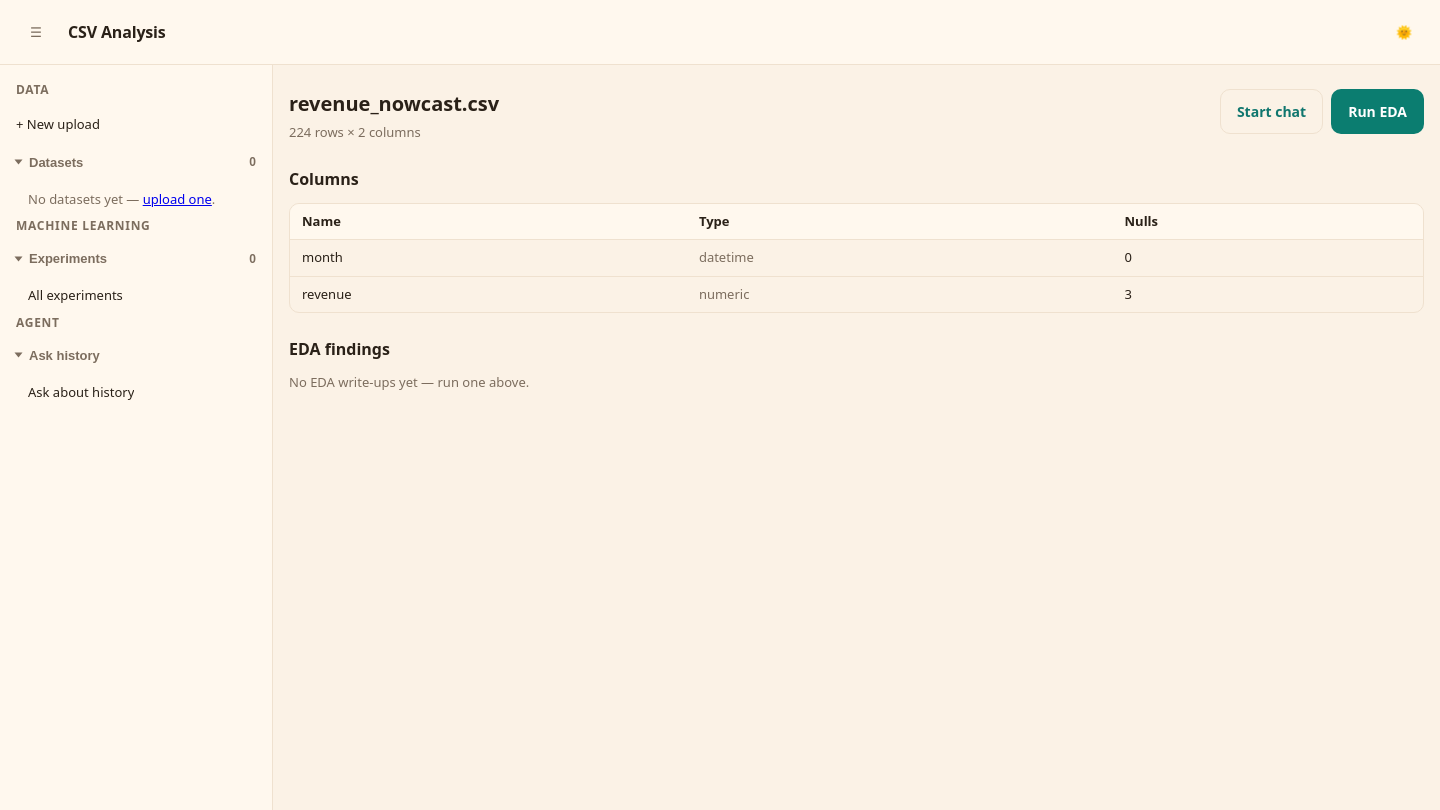
Test: a completed EDA pass refetches, so the new draft appears without a reload
Expected: the text "No EDA write-ups yet — run one above." is shown, left=289, top=373, right=529, bottom=391
What coordinates should you click on to do the following:
click the button "Run EDA"
I would click on:
 (1378, 112)
Its box is left=1331, top=89, right=1424, bottom=134.
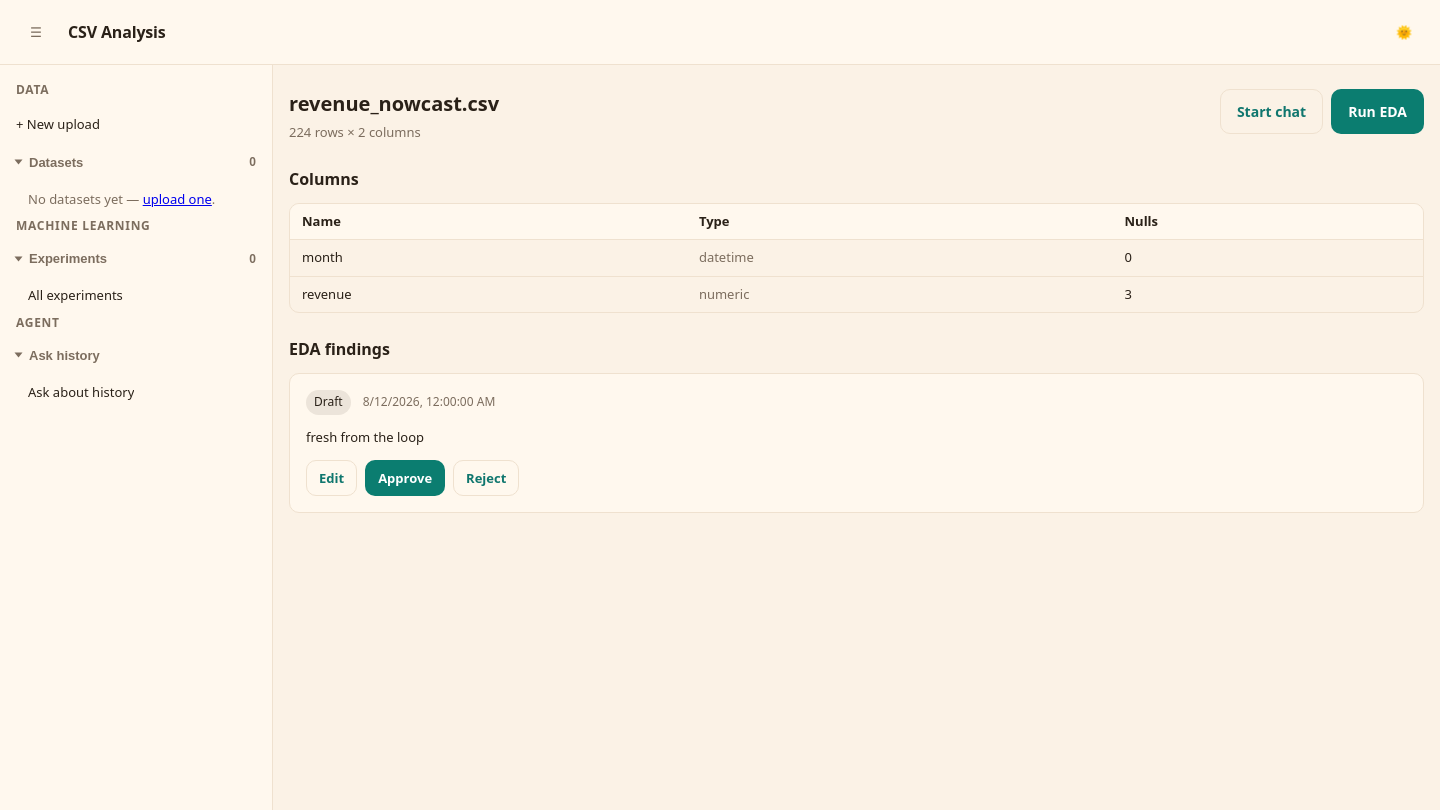
Result: the text "fresh from the loop" is shown at left=306, top=428, right=424, bottom=446
